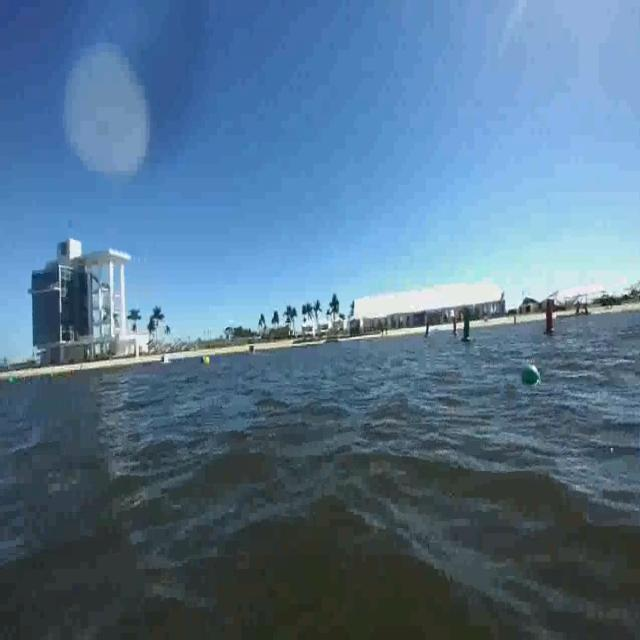green-buoy: (520, 364, 541, 386)
